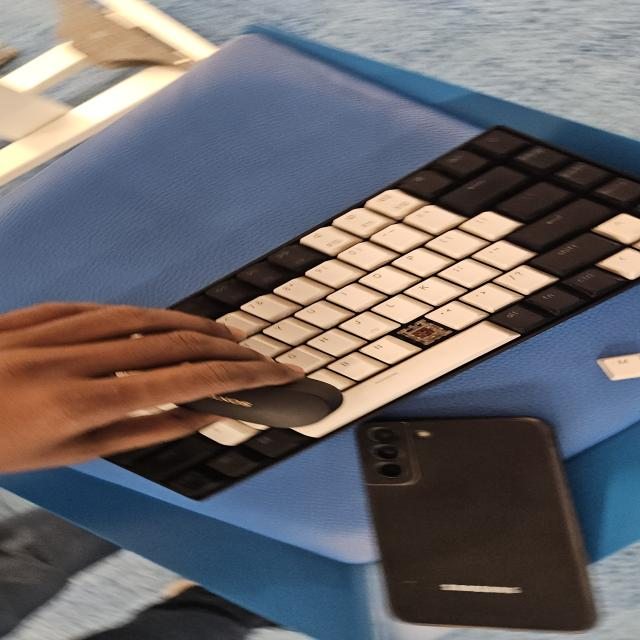C: (400, 325, 438, 344)
